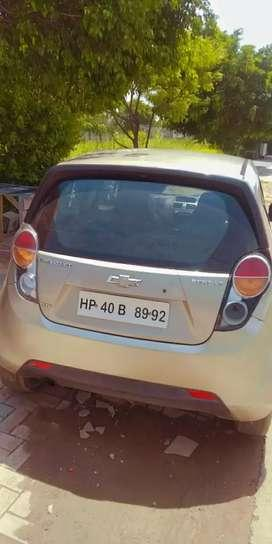HP40B8992: (75, 289, 168, 326)
